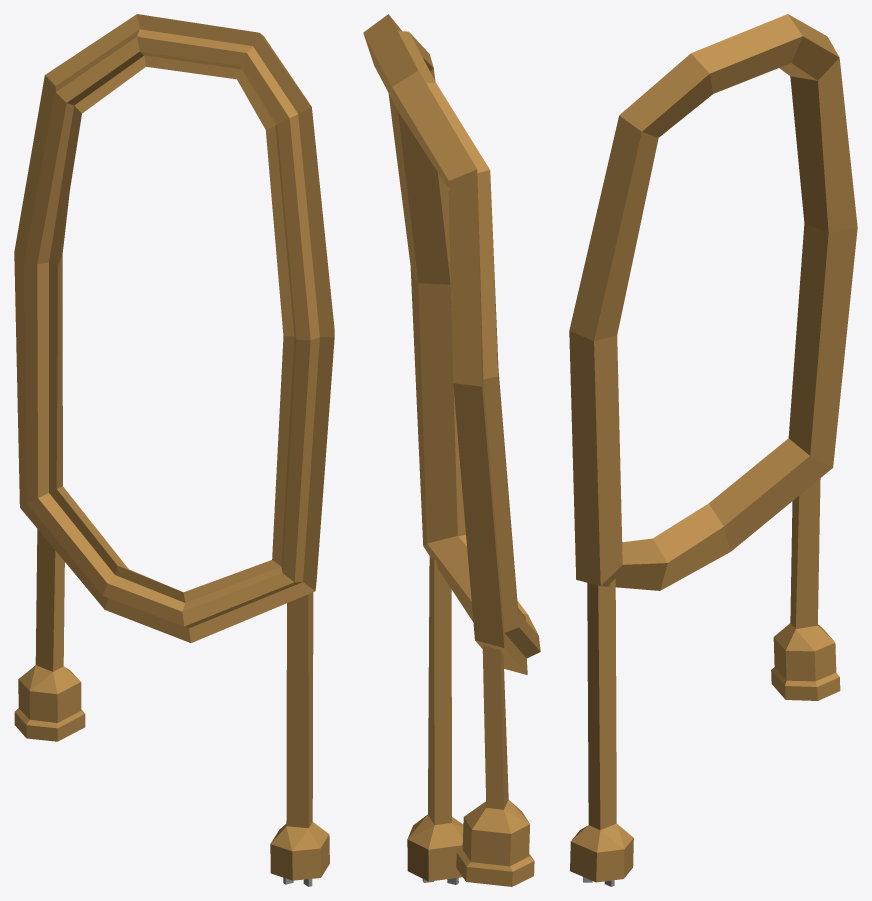
File: SM_Prop_Powercable_04.glb
3 renders of one model, left to right at view 1: azimuth 30°, elevation 25°; view 2: azimuth 150°, elevation 25°; view 3: azimuth 270°, elevation 25°, orthographic. The views are drawn at different scales.
Visible parts, largest first — view 1: SM_Prop_Powercable_04; view 2: SM_Prop_Powercable_04; view 3: SM_Prop_Powercable_04.
Boxes of the visible parts, <box> form: SM_Prop_Powercable_04: <box>14,14,334,886</box>; SM_Prop_Powercable_04: <box>363,14,540,886</box>; SM_Prop_Powercable_04: <box>569,14,857,886</box>.
Size of the model in its own units: 0.2674 by 0.9902 by 0.3111.
Materials: 1 (1 with a texture image).
